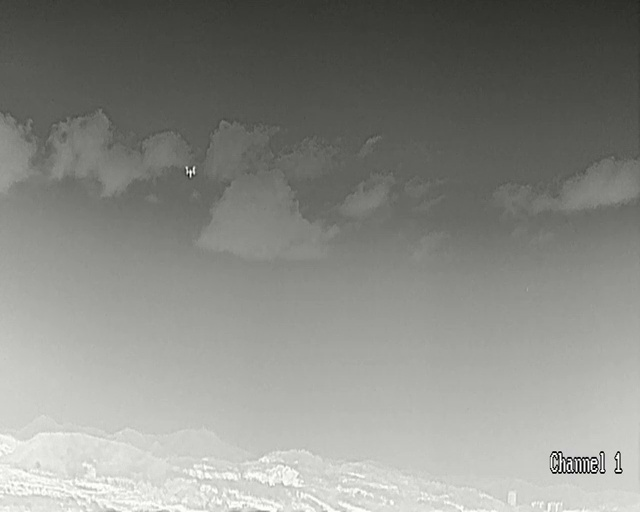uav: (185, 165, 195, 177)
